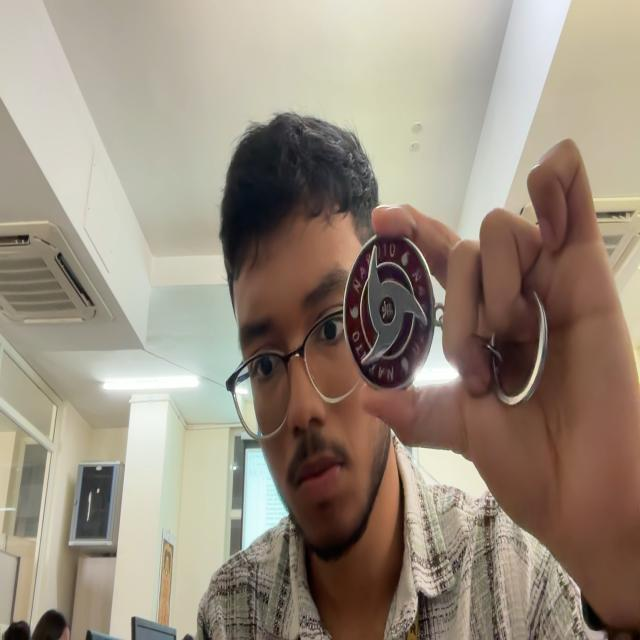dangerous: (343, 236, 436, 388)
